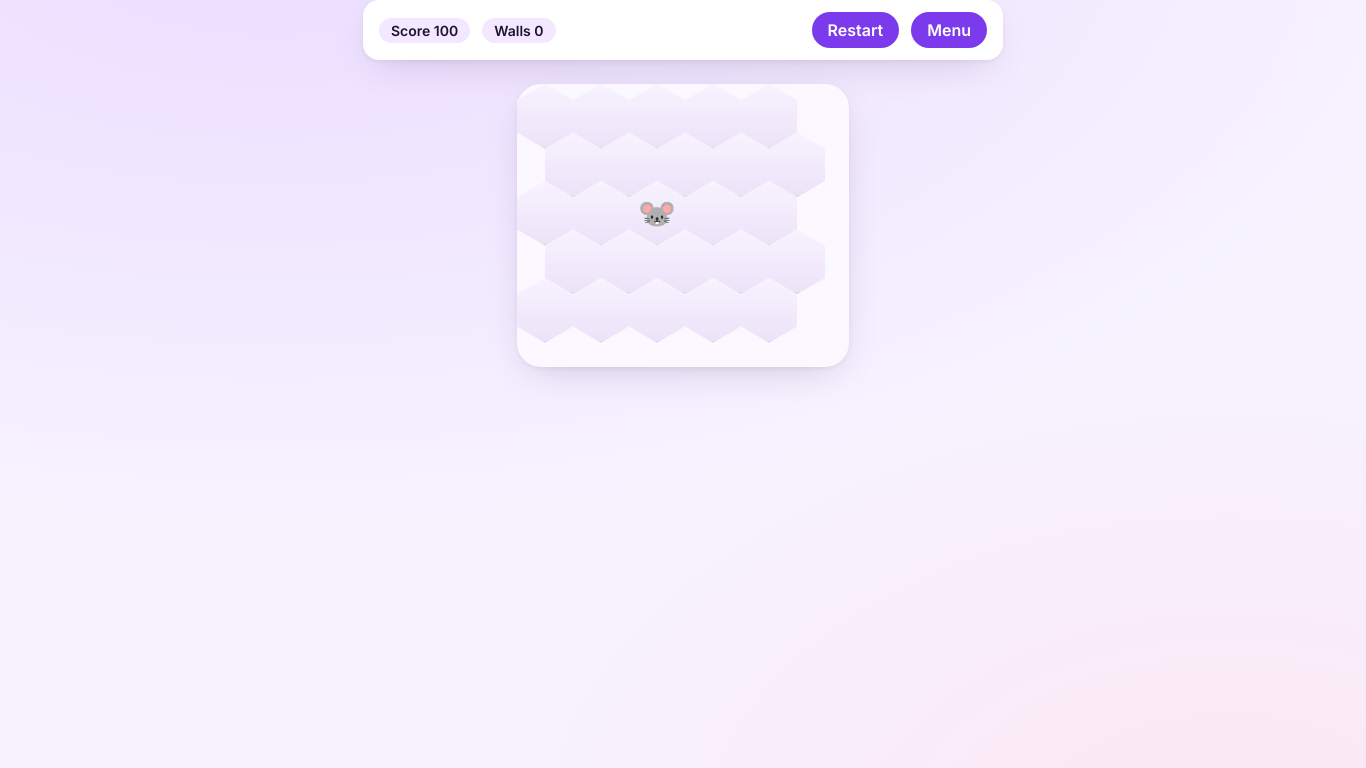
Test: <Game /> › Restart resets walls, score, and game state
Click the cell named "Empty cell 0,0". click: (545, 116)
box: x1=517 y1=84 x2=573 y2=149
Wait 500 ms
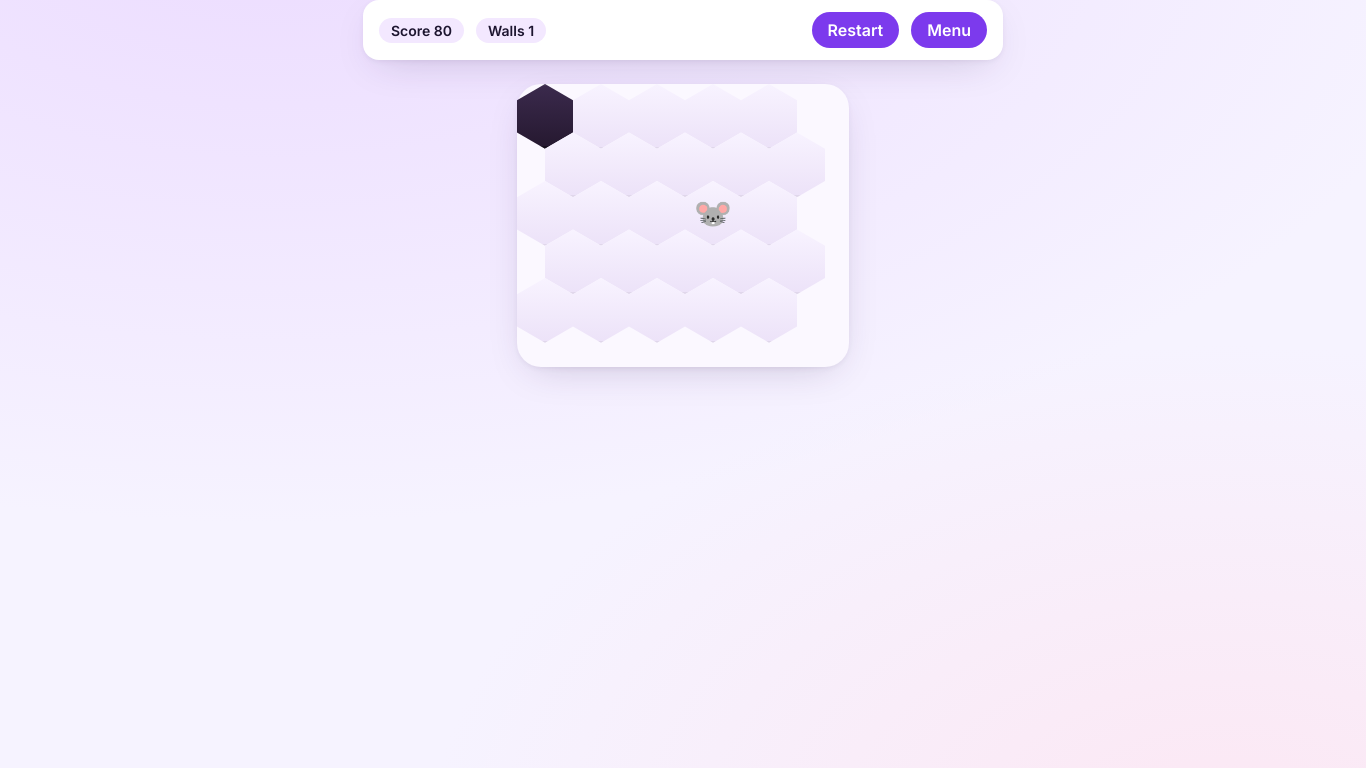
Click the button "Restart". click: (855, 30)
box: x1=812 y1=12 x2=899 y2=48
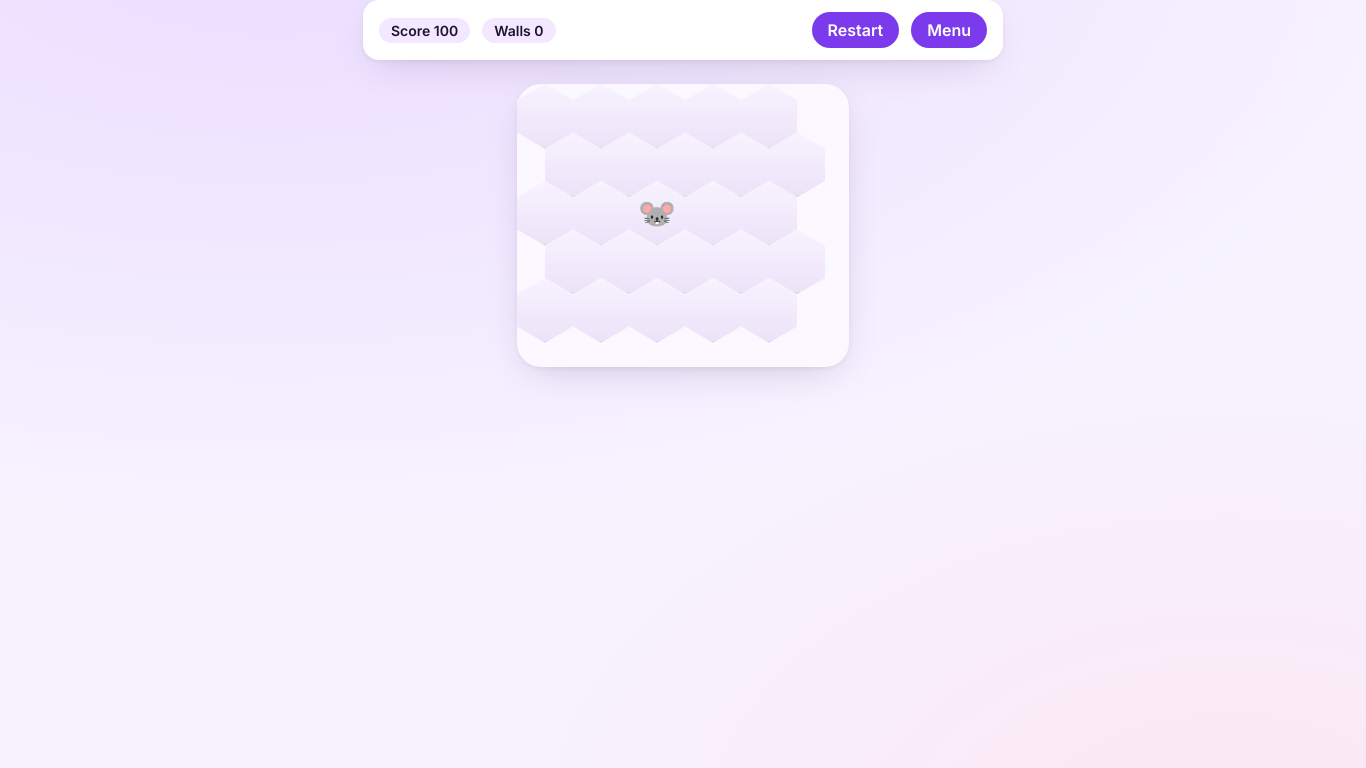
Expected: the text "Walls 0" is shown, x1=482 y1=18 x2=556 y2=42
Expected: the text "Score 100" is shown, x1=379 y1=18 x2=470 y2=42
